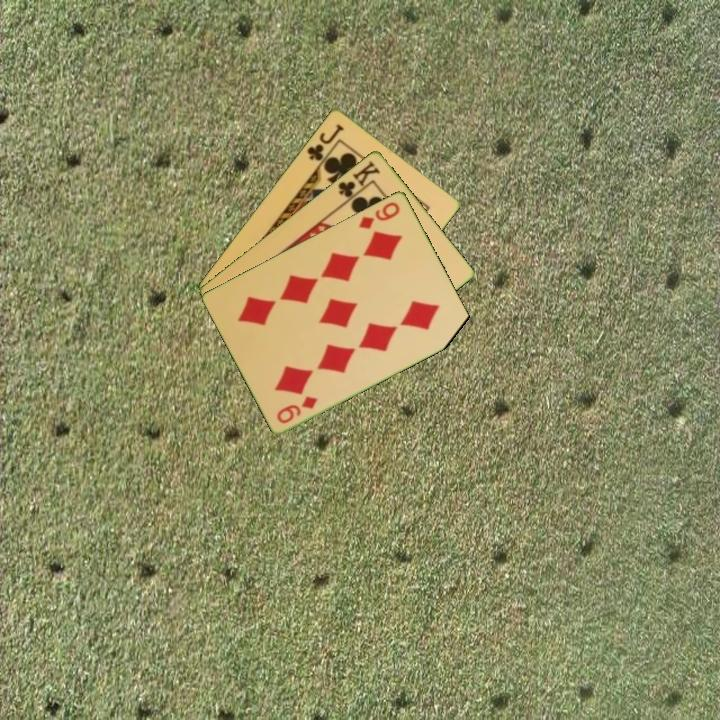9d: (355, 198, 403, 232), (273, 392, 321, 426)
Jc: (303, 120, 347, 164)
Kc: (334, 156, 383, 205)
